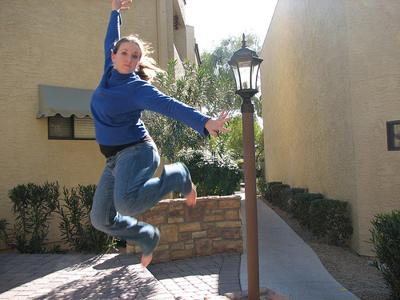person: (90, 1, 230, 268)
